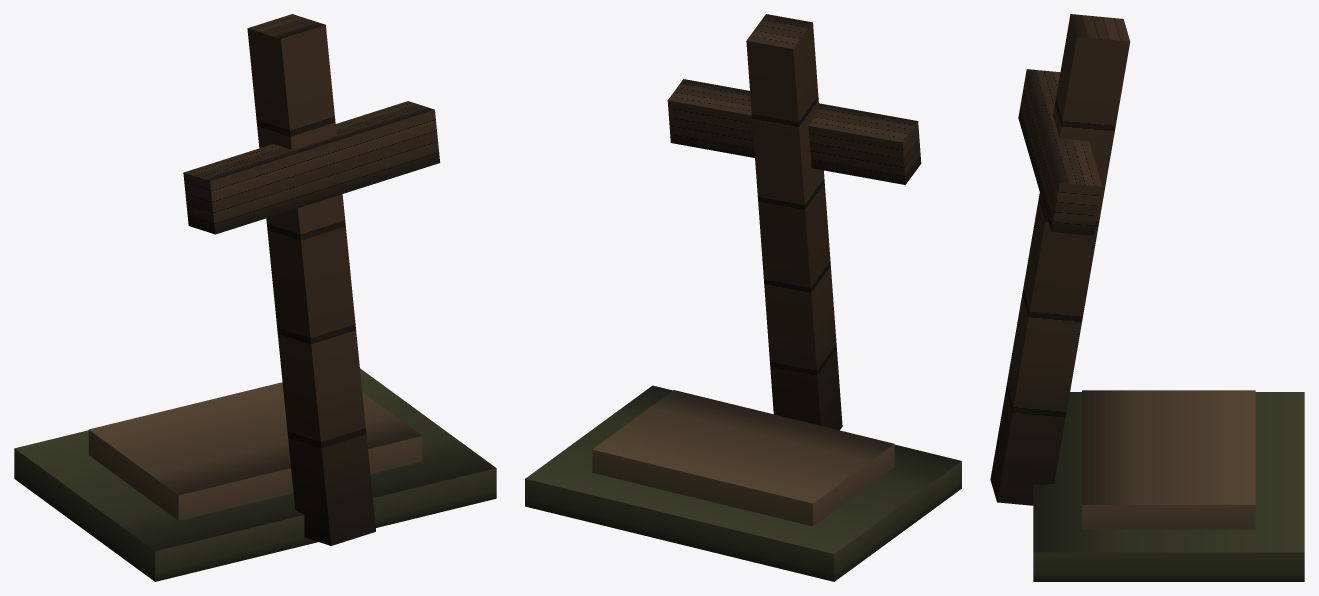
File: grave_cross.gltf
3 renders of one model, left to right at view 1: azimuth 30°, elevation 25°; view 2: azimuth 150°, elevation 25°; view 3: azimuth 270°, elevation 25°, orthographic. The views are drawn at different scales.
Visible parts, largest first — view 1: grave_cross; view 2: grave_cross; view 3: grave_cross.
Part boxes in pixels (x1=…): grave_cross: x1=14, y1=14, x2=496, y2=581; grave_cross: x1=525, y1=14, x2=961, y2=581; grave_cross: x1=990, y1=14, x2=1304, y2=581.
Size of the model in its own units: 0.7 by 0.967 by 0.5789.
Materials: 1 (1 with a texture image).
